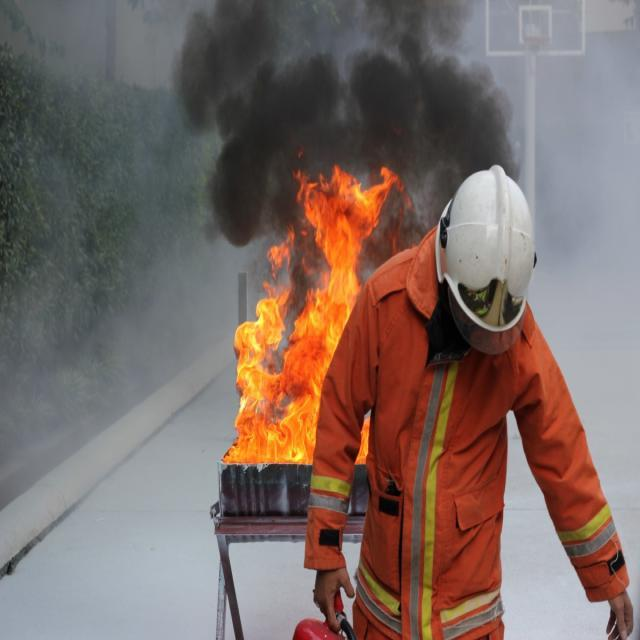Fire: (229, 156, 369, 476), (300, 164, 401, 327)
Smoke: (197, 0, 514, 146)
